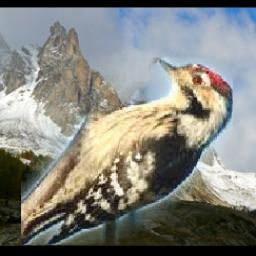Woodpecker: (22, 59, 234, 246)
